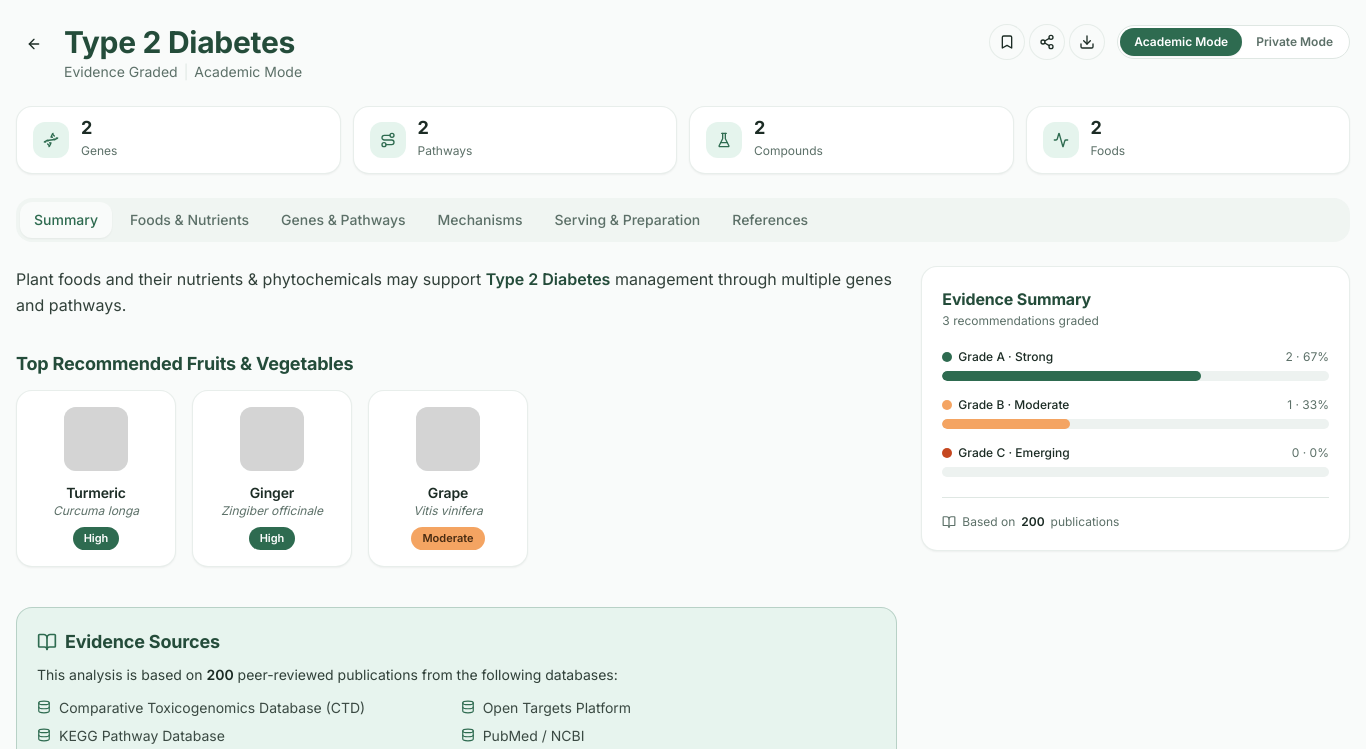
References tab › shows one card per phytochemical–gene pair with working PubMed links
Step 1. Press the mouse on the tab "References" → x=770, y=220, box [718,202,822,238]
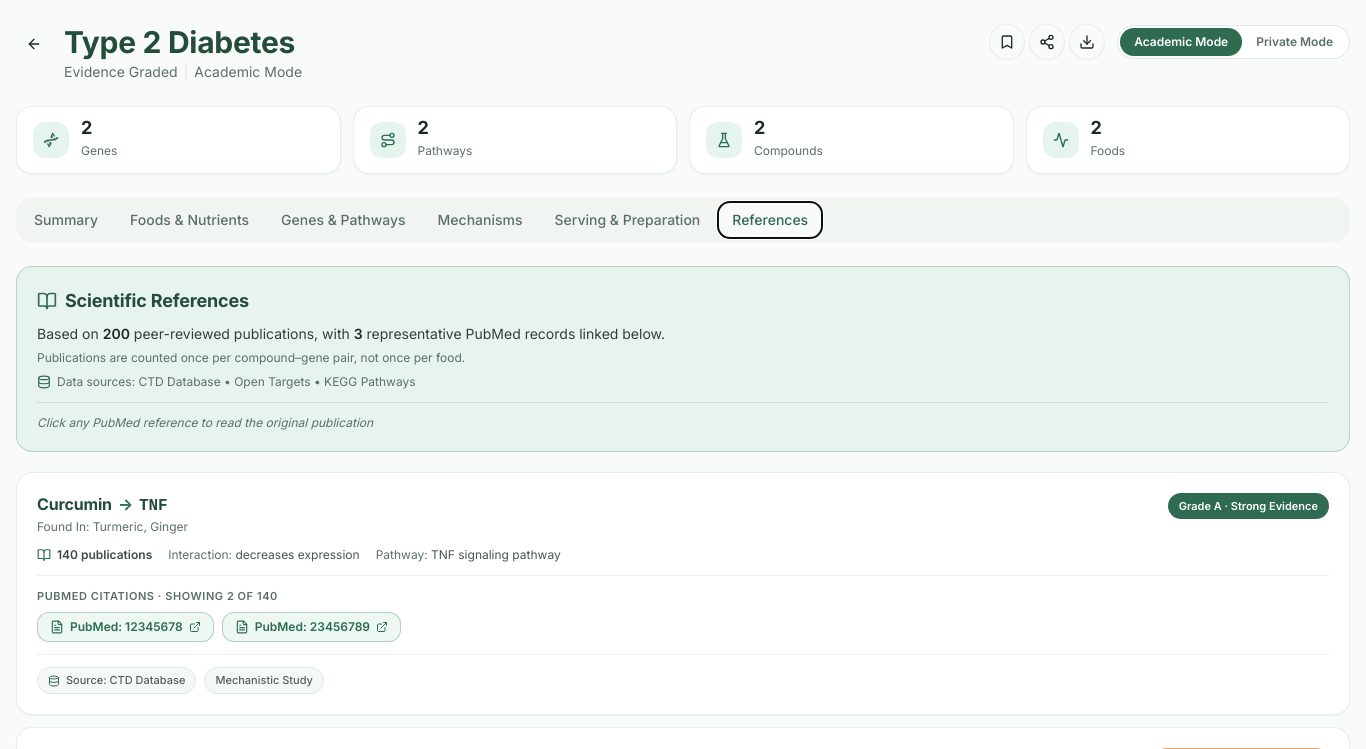
Expected: the list item that starts with "Curcumin" is shown, [16,472,1350,715]
Expected: the text "TNF" is shown, [139,497,167,515]
Expected: the text "140 publications" is shown, [37,547,152,563]
